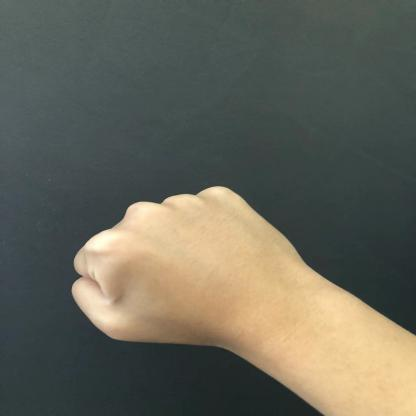fist: (44, 157, 333, 354)
